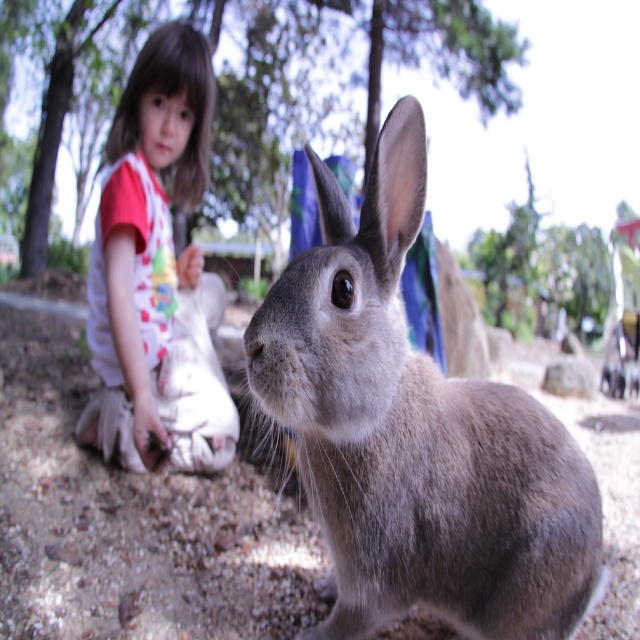Rabbit: (210, 91, 602, 639)
